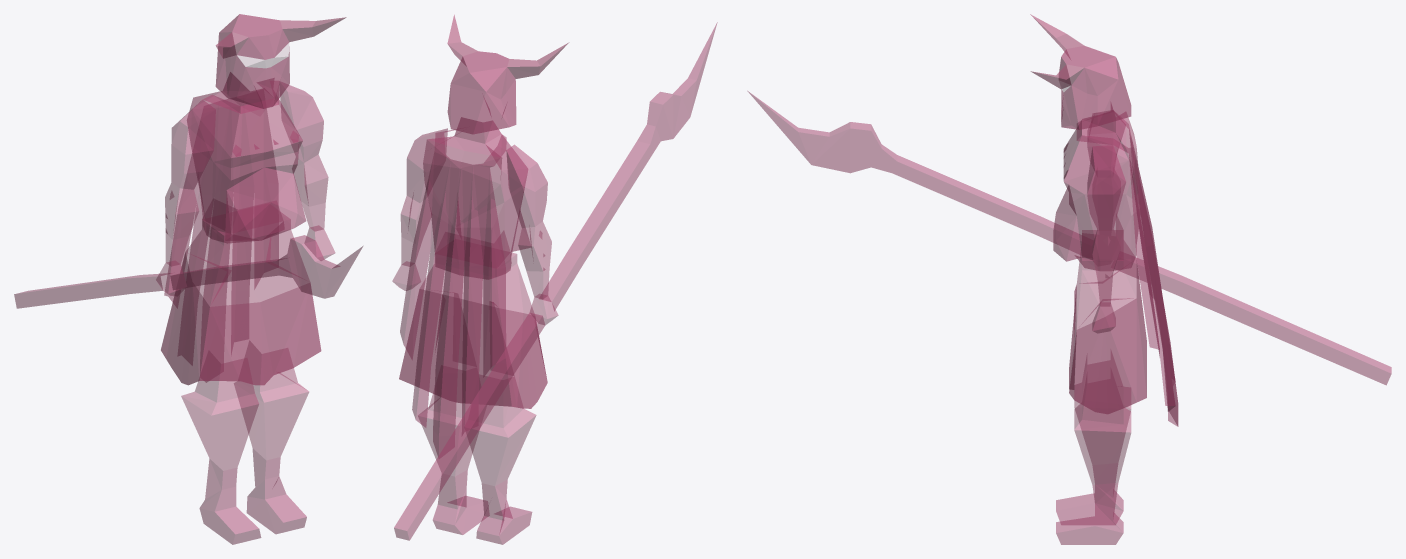
The model's file is guthan.gltf.
The picture shows the model from 3 angles, left to right: view 1: azimuth 30°, elevation 25°; view 2: azimuth 150°, elevation 25°; view 3: azimuth 270°, elevation 25°; orthographic projection. The views are drawn at different scales.
Bounding box in the file's own units: 70 × 206 × 248.
1 material, 1 textured.
